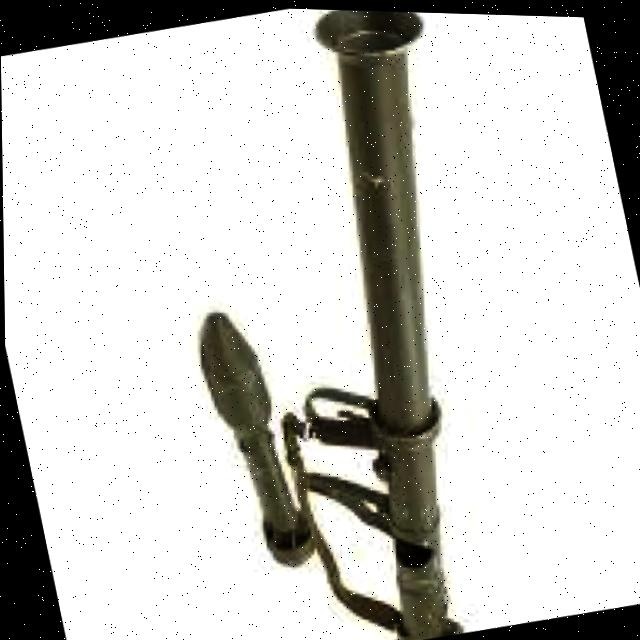rocket: (82, 2, 590, 640)
